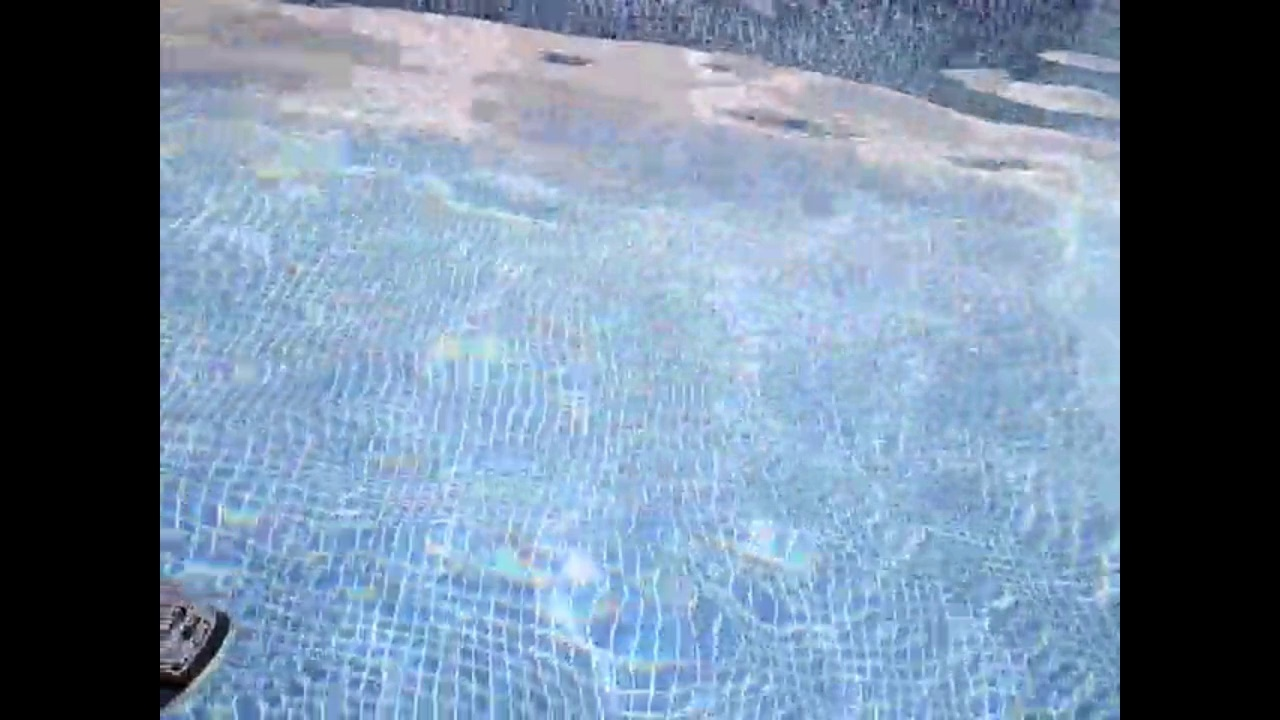debris: (161, 545, 244, 711)
